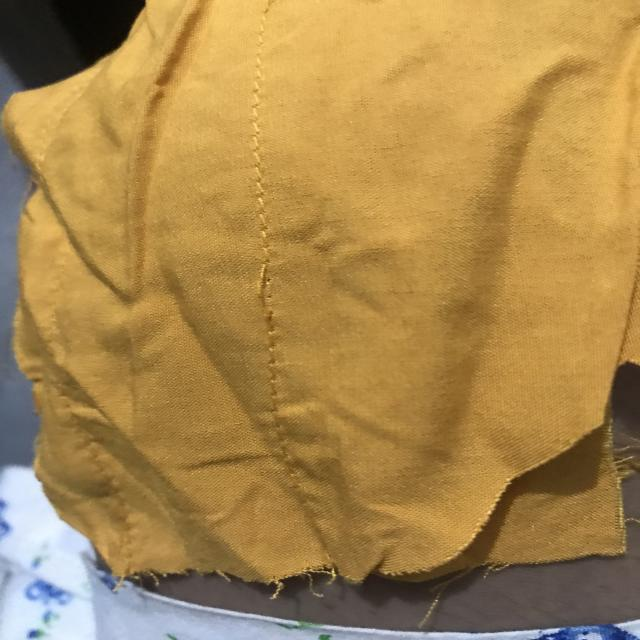broken: (247, 252, 292, 330)
good: (246, 148, 273, 224)
